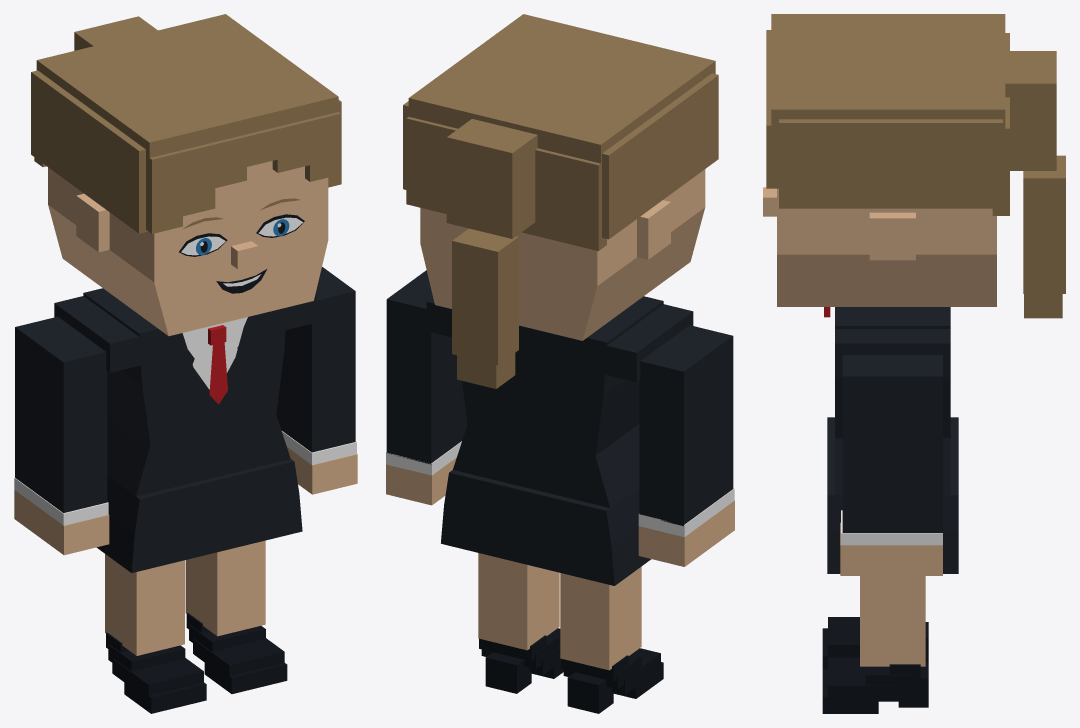
Rendered from female_ponytail.glb.
The picture shows the model from 3 angles, left to right: view 1: azimuth 30°, elevation 25°; view 2: azimuth 150°, elevation 25°; view 3: azimuth 270°, elevation 25°; orthographic projection. The views are drawn at different scales.
Visible parts, largest first — view 1: char_hair_visual, char_torso_visual, char_head_visual, char_arm_negx_visual, char_arm_posx_visual, char_leg_negx_visual, char_leg_posx_visual, char_hand_negx_visual, char_hand_posx_visual, char_eye_negx_visual, char_eye_posx_visual; view 2: char_hair_visual, char_torso_visual, char_head_visual, char_arm_negx_visual, char_arm_posx_visual, char_leg_negx_visual, char_leg_posx_visual, char_hand_negx_visual, char_hand_posx_visual; view 3: char_hair_visual, char_head_visual, char_arm_posx_visual, char_torso_visual, char_leg_posx_visual, char_hand_posx_visual, char_leg_negx_visual.
Part boxes in pixels (x1,y1,x2,y2): char_hair_visual: (31,14,341,233); char_torso_visual: (54,288,316,572); char_head_visual: (48,161,328,335); char_arm_negx_visual: (14,316,108,525); char_arm_posx_visual: (276,267,356,464); char_leg_negx_visual: (105,554,206,713); char_leg_posx_visual: (185,540,287,693); char_hand_negx_visual: (14,490,109,555); char_hand_posx_visual: (287,447,357,494); char_eye_negx_visual: (179,233,227,256); char_eye_posx_visual: (256,214,304,237); char_hair_visual: (403,14,718,388); char_torso_visual: (426,296,693,585); char_head_visual: (420,169,705,340); char_arm_negx_visual: (638,325,734,537); char_arm_posx_visual: (386,270,467,475); char_leg_negx_visual: (560,566,663,713); char_leg_posx_visual: (478,553,563,693); char_hand_negx_visual: (638,500,734,566); char_hand_posx_visual: (386,458,456,505); char_hair_visual: (766,14,1065,318); char_head_visual: (763,187,996,306); char_arm_posx_visual: (841,355,942,545); char_torso_visual: (824,307,958,573); char_leg_posx_visual: (822,576,928,713); char_hand_posx_visual: (840,522,942,575); char_leg_negx_visual: (822,617,928,668).
Size of the model in its own units: 0.91 by 1.77 by 0.784.
